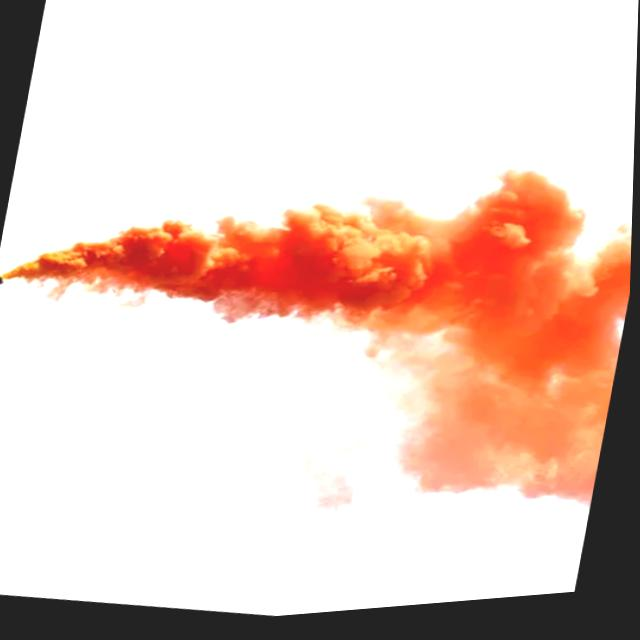Smoke: (0, 90, 637, 585)
